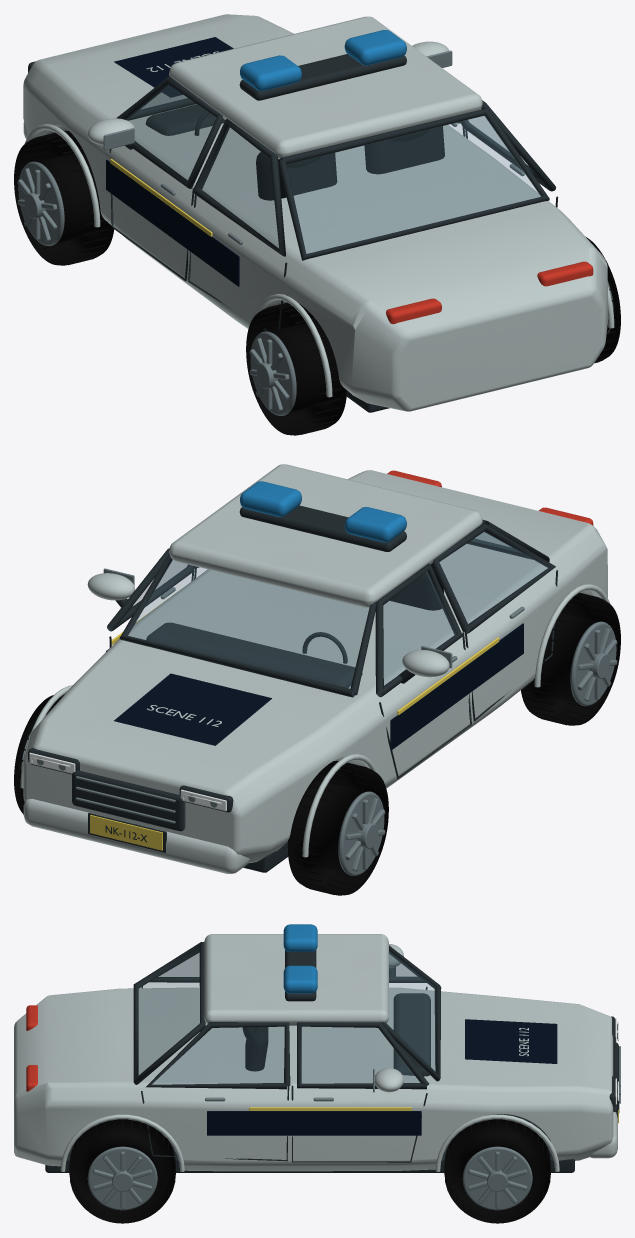
The model's file is police_car.glb.
3 renders of one model, top to bottom at view 1: azimuth 30°, elevation 25°; view 2: azimuth 150°, elevation 25°; view 3: azimuth 270°, elevation 25°, orthographic. The views are drawn at different scales.
Visible parts, largest first — view 1: PoliceBodyDetails, Wheel_LR_mesh, Wheel_LF_mesh, Wheel_RR_mesh; view 2: PoliceBodyDetails, Wheel_LF_mesh, Wheel_LR_mesh, Wheel_RF_mesh; view 3: PoliceBodyDetails, Wheel_RF_mesh, Wheel_RR_mesh.
Boxes of the visible parts, x1,y1,x2,y2 form: PoliceBodyDetails: (23, 14, 614, 412); Wheel_LR_mesh: (246, 302, 346, 435); Wheel_LF_mesh: (14, 130, 114, 265); Wheel_RR_mesh: (586, 237, 620, 363); PoliceBodyDetails: (20, 464, 610, 873); Wheel_LF_mesh: (287, 760, 388, 895); Wheel_LR_mesh: (521, 592, 620, 725); Wheel_RF_mesh: (14, 694, 64, 814); PoliceBodyDetails: (14, 924, 620, 1172); Wheel_RF_mesh: (444, 1119, 550, 1223); Wheel_RR_mesh: (69, 1119, 175, 1223).
Bounding box in the file's own units: 2.46 × 1.72 × 4.47.
11 materials, 5 textured.
